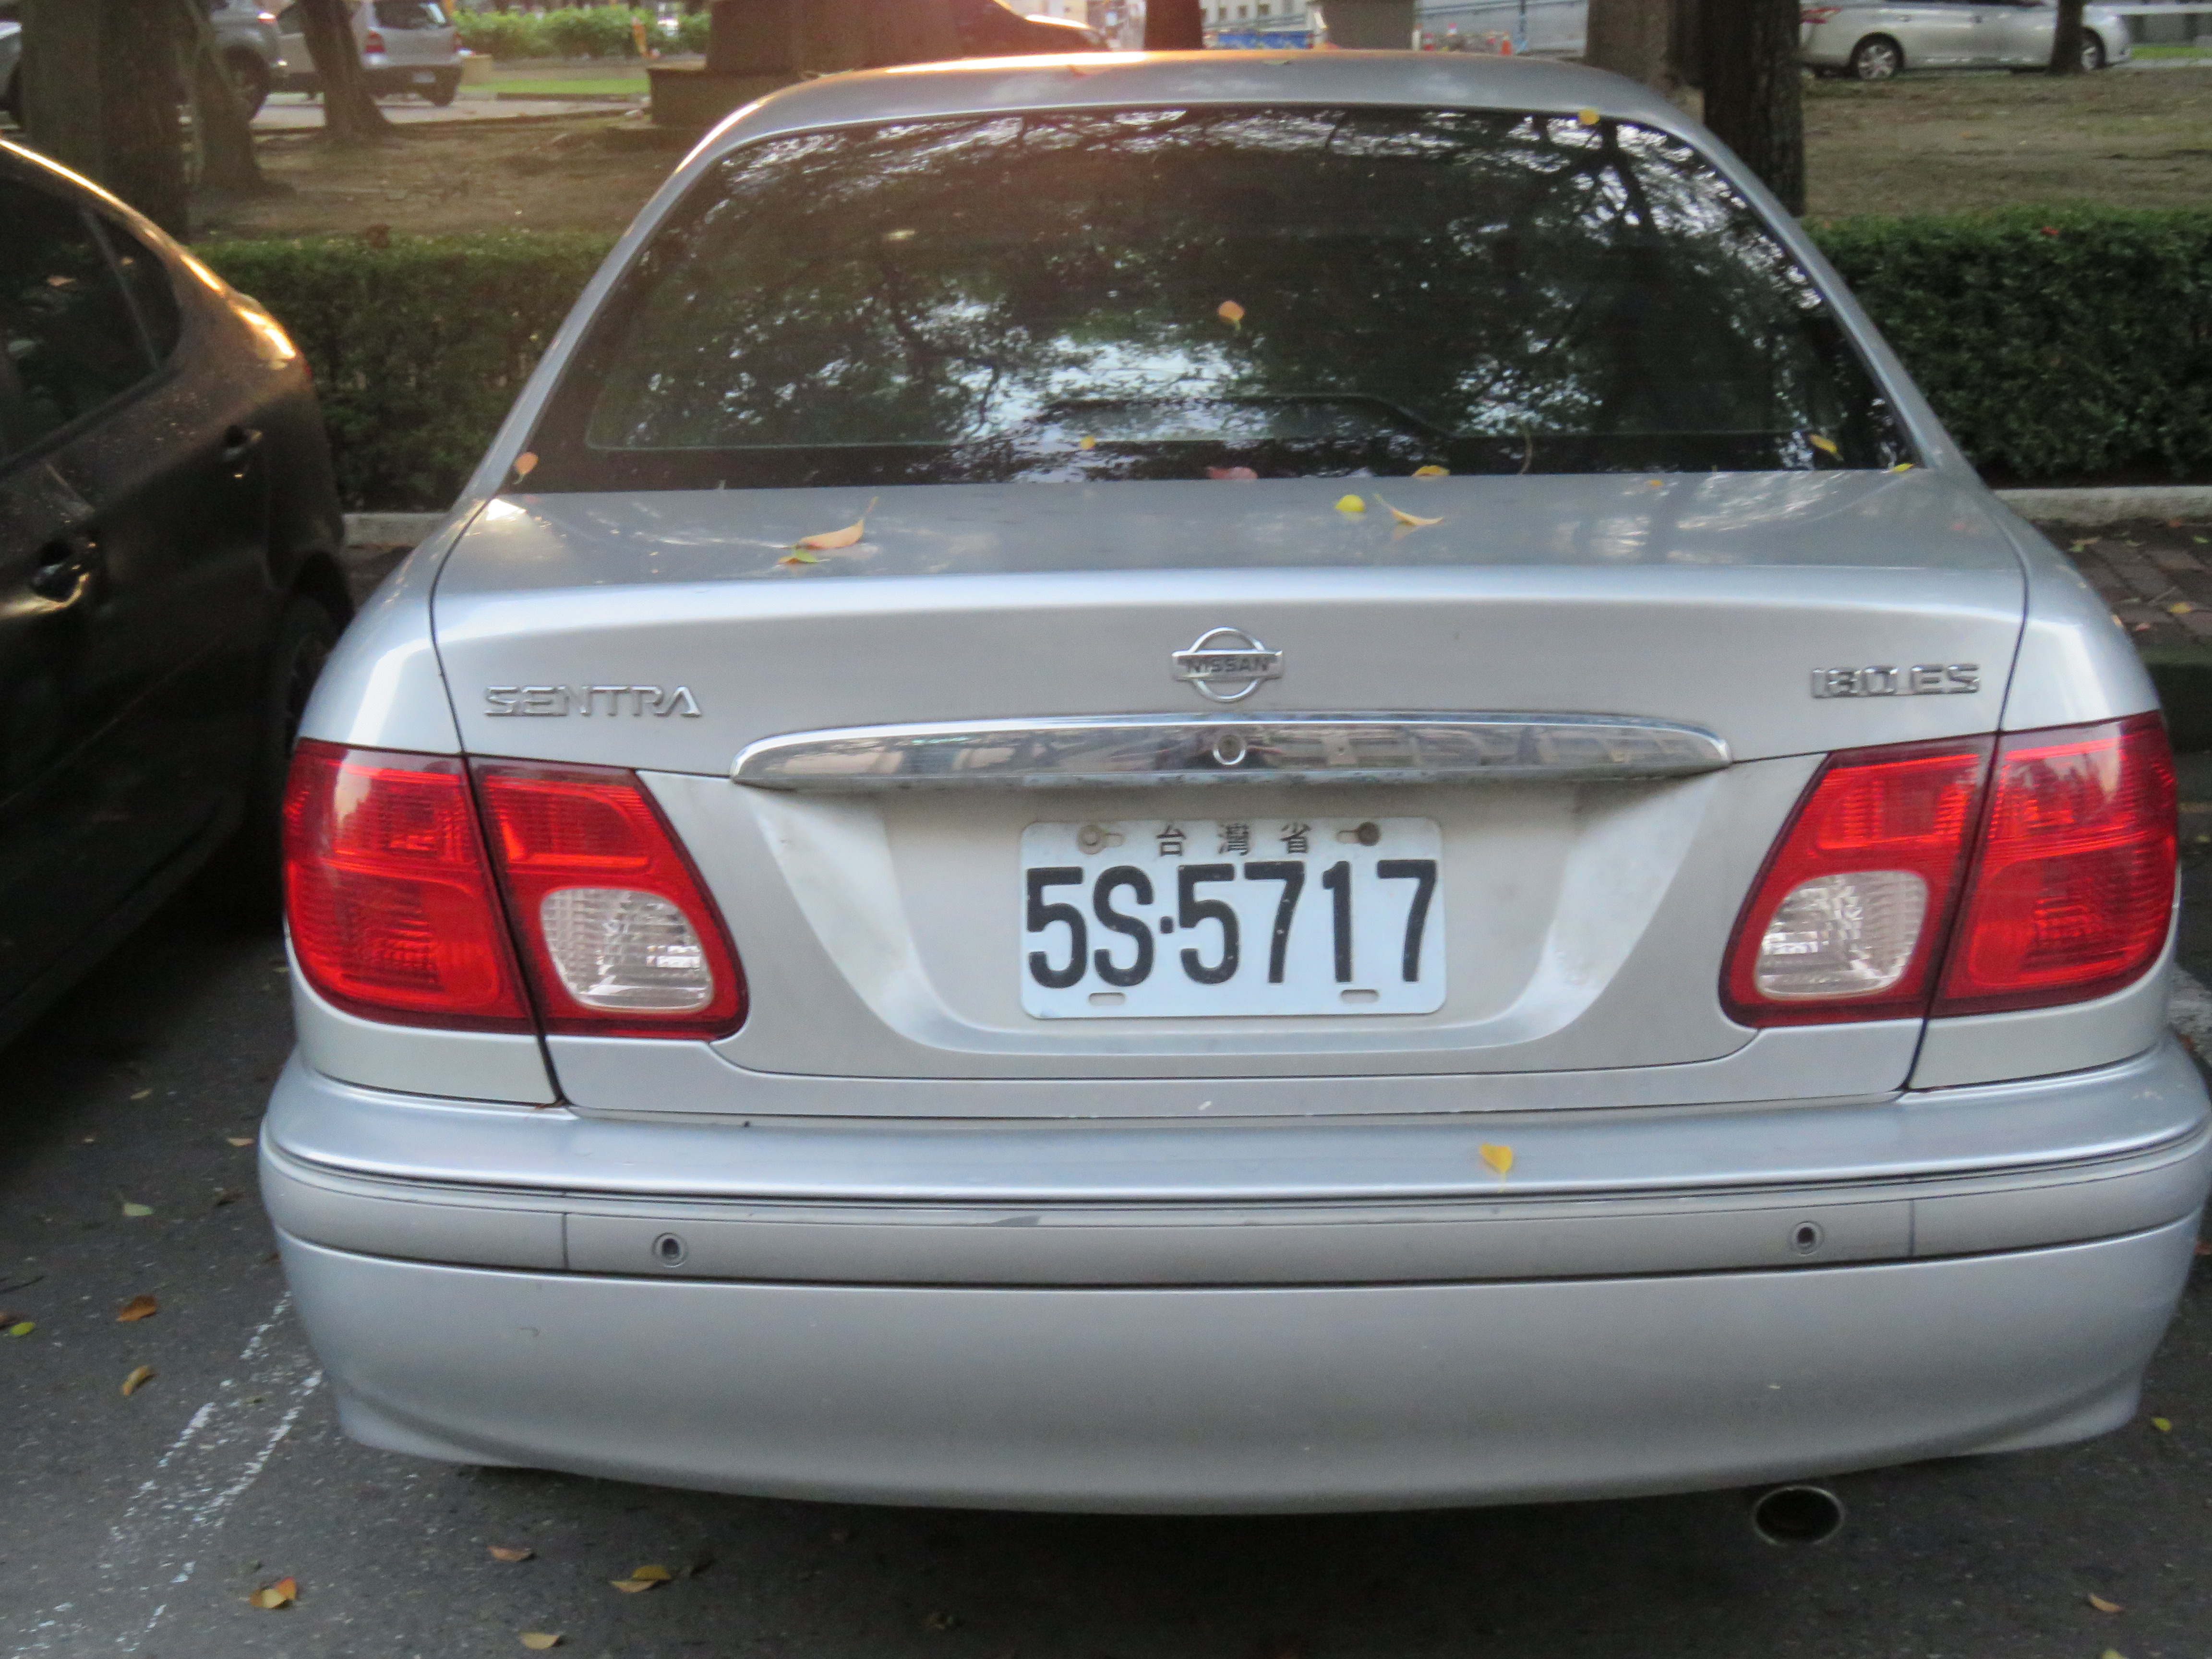car: (268, 52, 2186, 1521)
car_card: (1031, 819, 1437, 1007)
